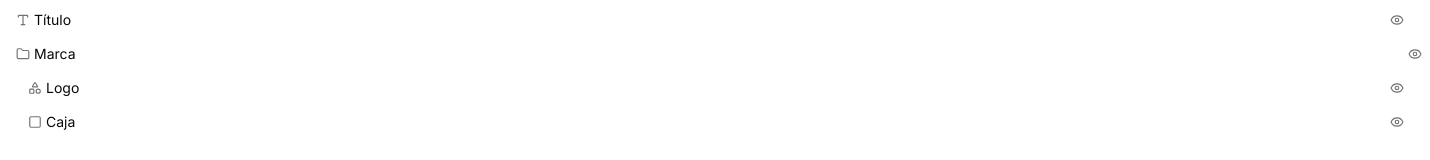
Test: PanelCapas › el ojo oculta en un paso
Click the button named "Ocultar Título" at point(1397, 20), box x1=1390 y1=13 x2=1404 y2=27
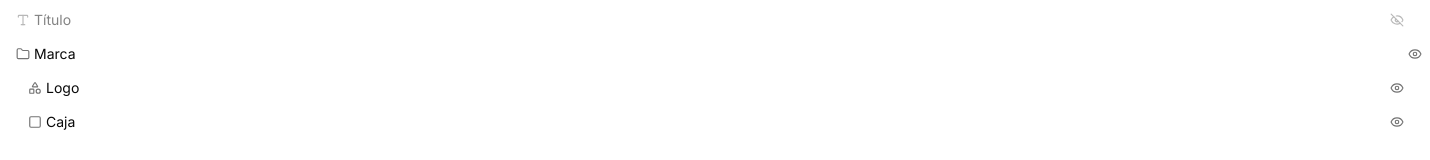
Now the button named "Mostrar Título" is shown, box x1=1390 y1=13 x2=1404 y2=27
